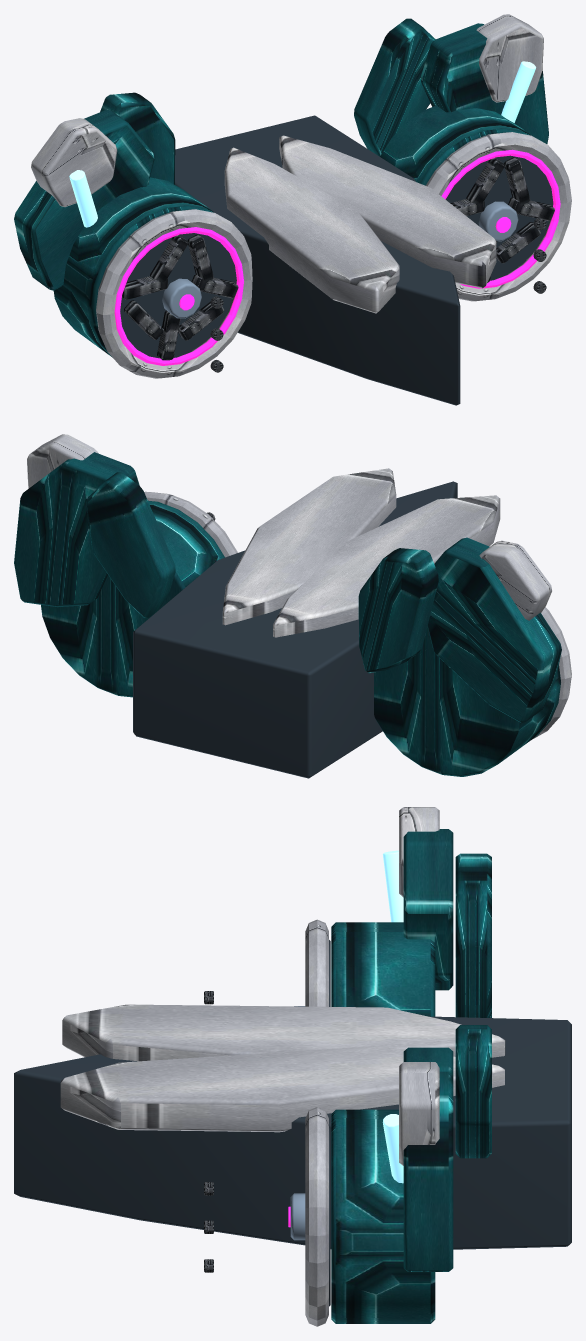
The model's file is sector_06_4.glb.
3 renders of one model, top to bottom at view 1: azimuth 30°, elevation 25°; view 2: azimuth 150°, elevation 25°; view 3: azimuth 270°, elevation 25°, orthographic. The views are drawn at different scales.
Parts seen in each view (by area): view 1: Split arrow nose, Swept dorsal vane, Pointed interceptor chassis, Turbine impeller blade, Turbine running light, Turbine hub, Navigation light; view 2: Swept dorsal vane, Pointed interceptor chassis, Split arrow nose; view 3: Pointed interceptor chassis, Split arrow nose, Swept dorsal vane, Navigation light, Turbine hub.
Part boxes in pixels (left/top/right/bottom): Split arrow nose: left=31, top=14, right=571, bottom=378; Swept dorsal vane: left=14, top=18, right=548, bottom=357; Pointed interceptor chassis: left=120, top=115, right=553, bottom=405; Turbine impeller blade: left=122, top=157, right=554, bottom=372; Turbine running light: left=114, top=149, right=560, bottom=365; Turbine hub: left=162, top=201, right=518, bottom=318; Navigation light: left=69, top=61, right=536, bottom=227; Swept dorsal vane: left=14, top=452, right=561, bottom=776; Pointed interceptor chassis: left=133, top=481, right=457, bottom=778; Split arrow nose: left=27, top=434, right=571, bottom=739; Pointed interceptor chassis: left=14, top=940, right=571, bottom=1306; Split arrow nose: left=60, top=807, right=505, bottom=1326; Swept dorsal vane: left=331, top=829, right=491, bottom=1323; Navigation light: left=382, top=850, right=403, bottom=1183; Turbine hub: left=290, top=1006, right=305, bottom=1240.
Bounding box in the file's own units: 1.61 × 0.6948 × 1.23.
7 materials, 3 textured.
